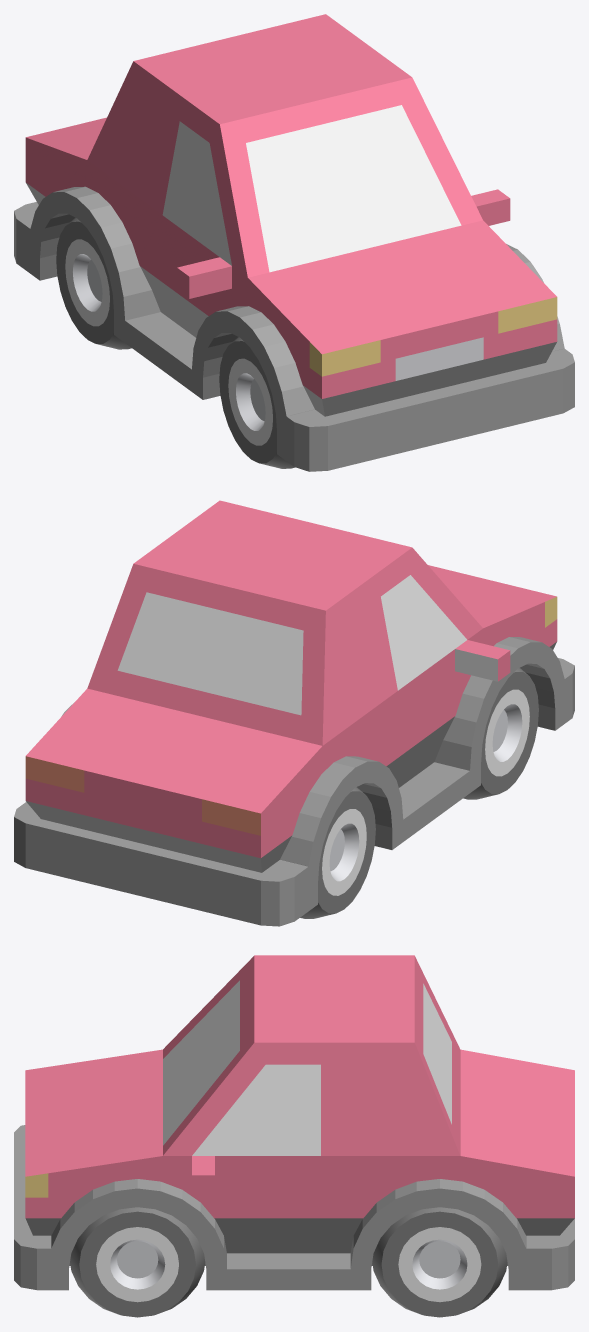
File: sedan.fbx
3 renders of one model, top to bottom at view 1: azimuth 30°, elevation 25°; view 2: azimuth 150°, elevation 25°; view 3: azimuth 270°, elevation 25°, orthographic. The views are drawn at different scales.
Parts seen in each view (by area): view 1: body, wheel_backRight, wheel_frontRight; view 2: body, wheel_frontRight, wheel_backRight; view 3: body, wheel_backLeft, wheel_frontLeft.
Boxes of the visible parts, box(x1,y1,x2,y2) form: body: box(14, 14, 574, 471); wheel_backRight: box(56, 217, 131, 349); wheel_frontRight: box(219, 337, 295, 468); body: box(14, 500, 574, 926); wheel_frontRight: box(463, 667, 538, 799); wheel_backRight: box(300, 787, 375, 918); body: box(14, 955, 574, 1290); wheel_backLeft: box(372, 1207, 507, 1317); wheel_frontLeft: box(70, 1207, 205, 1317).
Bounding box in the file's own units: 150 × 130 × 245.
